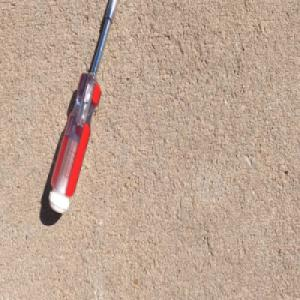Screwdriver: (47, 0, 119, 215)
